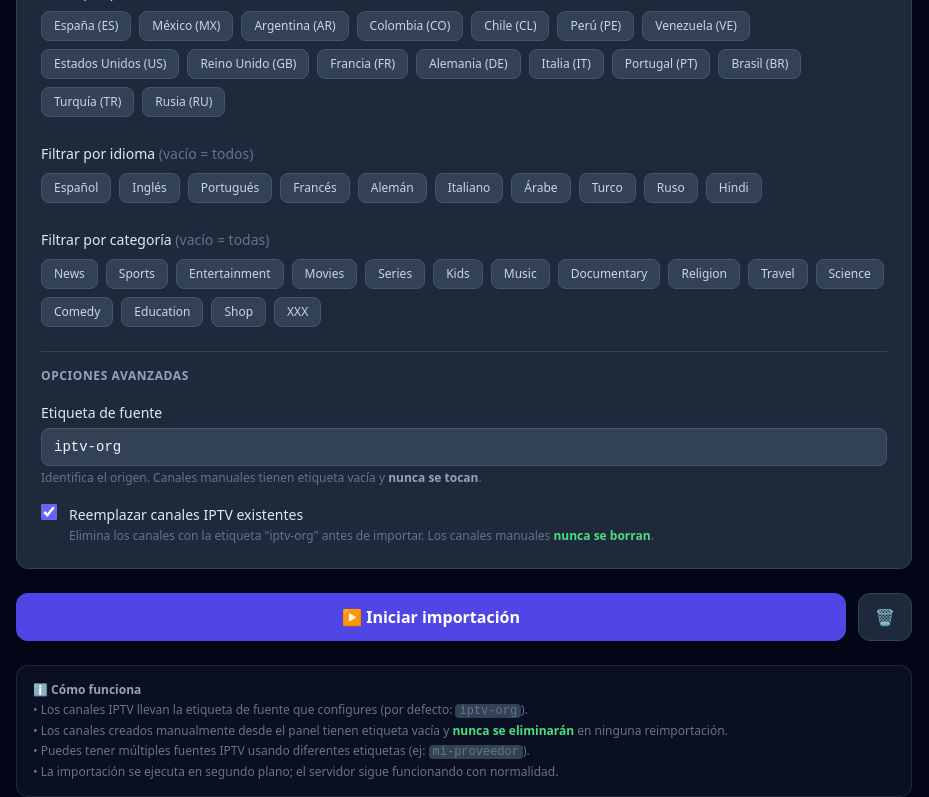
Test case: IPTVPage › shows confirm dialog when replace is enabled and import is clicked
(page scrolled)
Step 1. Click the button "▶ Iniciar importación" → (431, 617), box [16, 593, 846, 641]
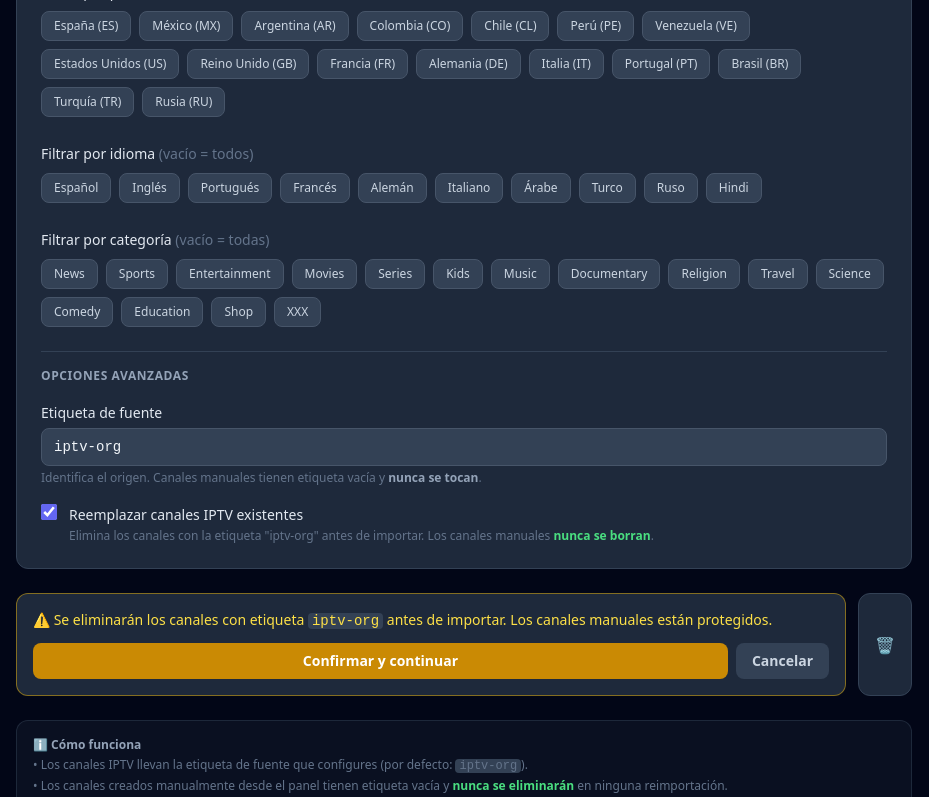
Expected: the button "Confirmar y continuar" is shown, [33, 643, 728, 679]
